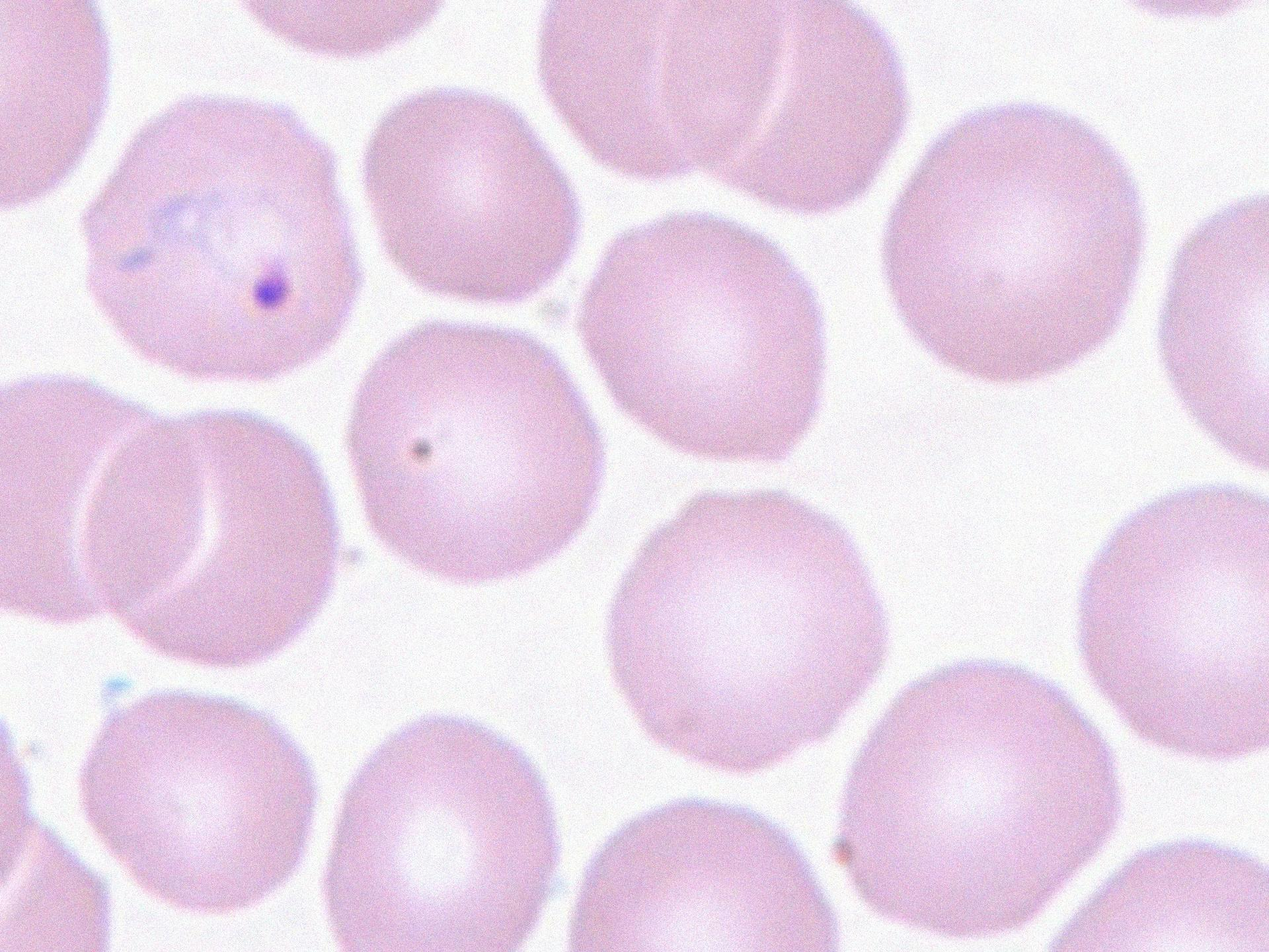Infected: (93, 95, 360, 377)
Uninfected: (604, 483, 890, 768), (828, 664, 1128, 934), (877, 107, 1138, 387), (82, 408, 332, 665), (579, 208, 830, 461), (353, 322, 595, 574), (79, 690, 323, 917), (322, 717, 551, 952), (657, 0, 903, 215), (1082, 486, 1269, 761), (0, 375, 200, 623), (533, 1, 795, 186), (366, 84, 577, 302)
